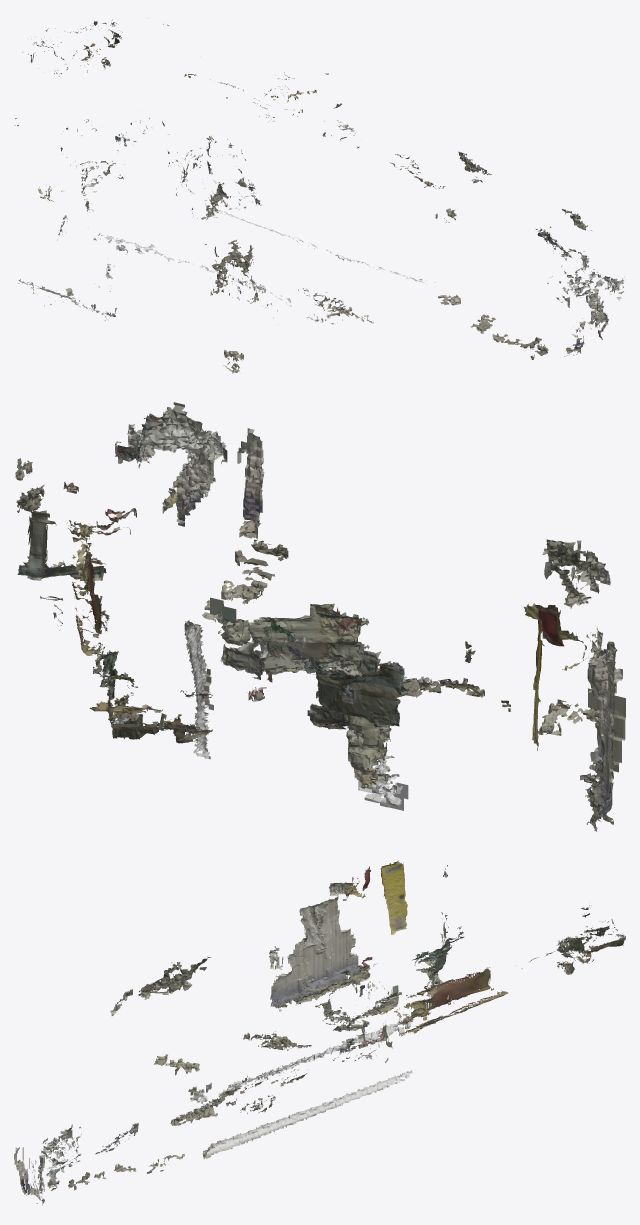
File: surfaces-0.glb
The picture shows the model from 3 angles, top to bottom: view 1: azimuth 30°, elevation 25°; view 2: azimuth 150°, elevation 25°; view 3: azimuth 270°, elevation 25°; orthographic projection. The views are drawn at different scales.
Visible parts, largest first — view 1: obj-0-323, obj-0-32, obj-0-31, obj-0-313, obj-0-0; view 2: obj-0-307, obj-0-323, obj-0-362, obj-0-45, obj-0-360, obj-0-309, obj-0-26, obj-0-0, obj-0-387, obj-0-42, obj-0-32, obj-0-30 (+16 smaller); view 3: obj-0-387, obj-0-30, obj-0-2, obj-0-27, obj-0-31, obj-0-45, obj-0-323, obj-0-44, obj-0-314, obj-0-313, obj-0-329, obj-0-42 (+2 smaller).
Part boxes in pixels (x1,y1,x2,y2): obj-0-323: (536, 229, 612, 297); obj-0-32: (438, 295, 548, 359); obj-0-31: (93, 233, 323, 322); obj-0-313: (210, 194, 253, 295); obj-0-0: (586, 288, 608, 339); obj-0-307: (303, 658, 402, 788); obj-0-323: (118, 402, 227, 463); obj-0-362: (213, 604, 358, 645); obj-0-45: (542, 539, 599, 608); obj-0-360: (237, 428, 264, 539); obj-0-309: (17, 510, 105, 580); obj-0-26: (90, 678, 208, 743); obj-0-0: (172, 449, 215, 515); obj-0-387: (587, 641, 617, 824); obj-0-42: (220, 639, 381, 679); obj-0-32: (202, 539, 288, 622); obj-0-30: (184, 620, 210, 759); obj-0-387: (269, 896, 361, 1011); obj-0-30: (202, 1070, 412, 1159); obj-0-2: (404, 967, 493, 1021); obj-0-27: (380, 860, 407, 934); obj-0-31: (190, 1015, 413, 1103); obj-0-45: (138, 956, 211, 999); obj-0-323: (41, 1124, 135, 1176); obj-0-44: (170, 1083, 240, 1125); obj-0-314: (315, 975, 395, 1052); obj-0-313: (243, 1031, 379, 1050); obj-0-329: (293, 970, 370, 1005); obj-0-42: (322, 997, 369, 1053).
Bounding box in the file's own units: 13.52 × 5.08 × 15.75.
